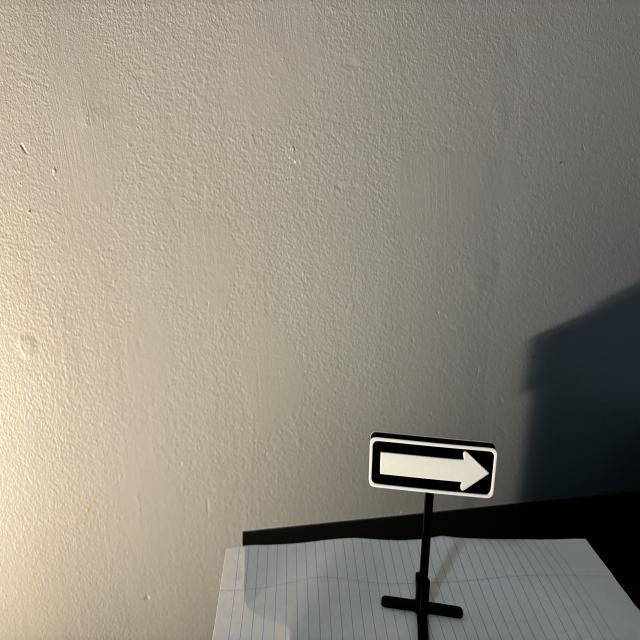sign_oneway_right: (370, 438, 497, 500)
